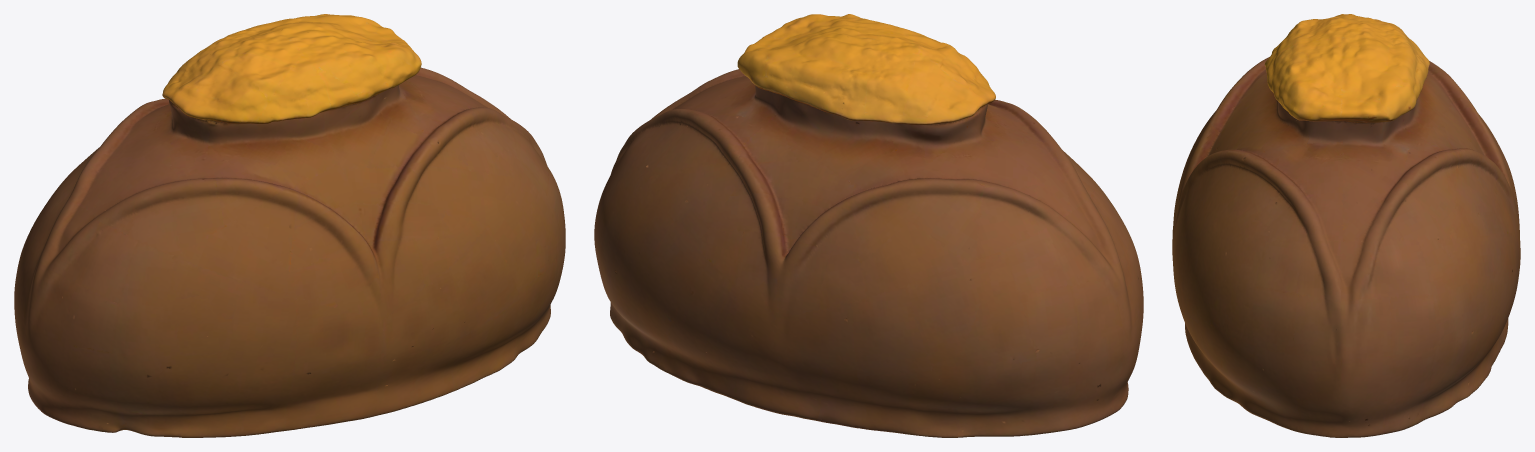
Rendered from praline-amande-chocolate.glb.
3 renders of one model, left to right at view 1: azimuth 30°, elevation 25°; view 2: azimuth 150°, elevation 25°; view 3: azimuth 270°, elevation 25°, orthographic. The views are drawn at different scales.
Bounding box in the file's own units: 2 × 1.15 × 1.25.
1 material, 1 textured.
